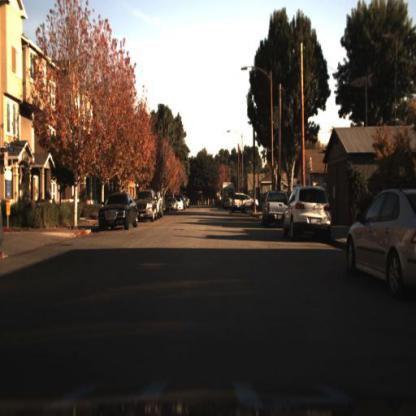car: (347, 187, 416, 299), (278, 179, 334, 243), (94, 190, 141, 240), (263, 184, 286, 231), (138, 188, 158, 228), (232, 190, 249, 214)
